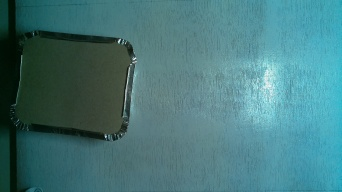f: (14, 28, 139, 144)
